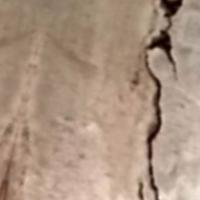crack: (117, 0, 190, 199)
